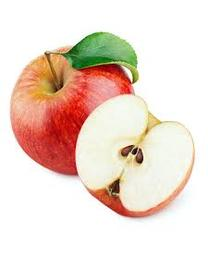apple: (8, 39, 136, 176), (75, 93, 194, 217)
